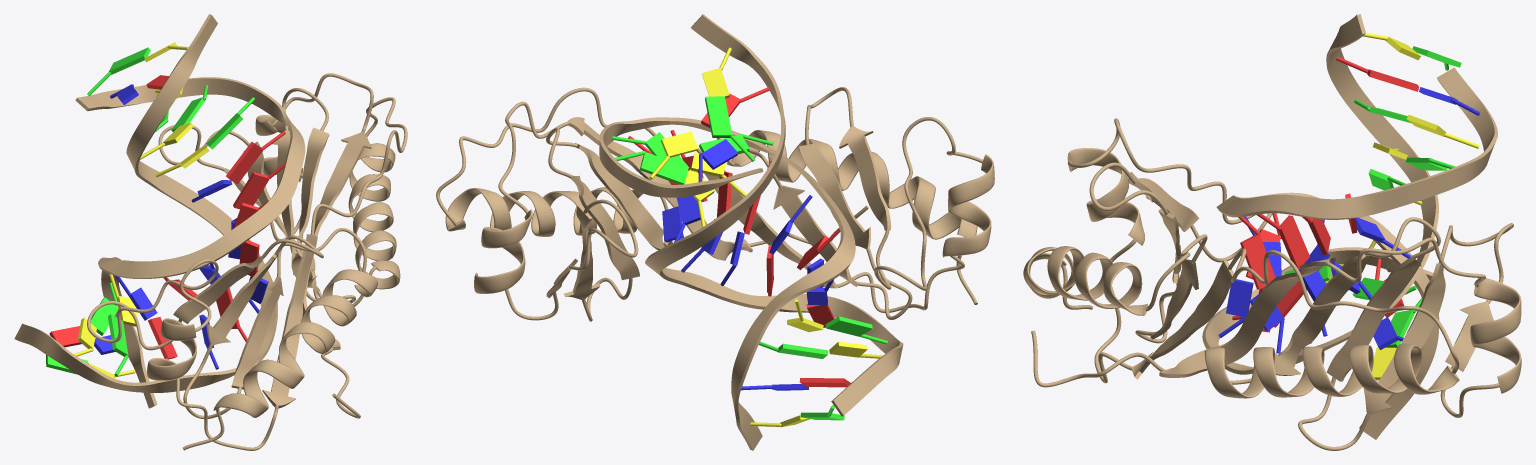
The model's file is 1cdw_bound.glb.
3 views of the same model, side by side, from view 1: azimuth 30°, elevation 25°; view 2: azimuth 150°, elevation 25°; view 3: azimuth 270°, elevation 25° (orthographic). The views are drawn at different scales.
Parts seen in each view (by area): view 1: ribbons, nucleotides; view 2: ribbons, nucleotides; view 3: ribbons, nucleotides.
Boxes of the visible parts, left/top/right/bottom form: ribbons: left=14, top=14, right=407, bottom=450; nucleotides: left=46, top=42, right=285, bottom=378; ribbons: left=436, top=14, right=994, bottom=450; nucleotides: left=612, top=47, right=887, bottom=427; ribbons: left=1023, top=14, right=1521, bottom=450; nucleotides: left=1218, top=33, right=1479, bottom=380.
Size of the model in its own units: 50.69 by 48.9 by 48.46.
